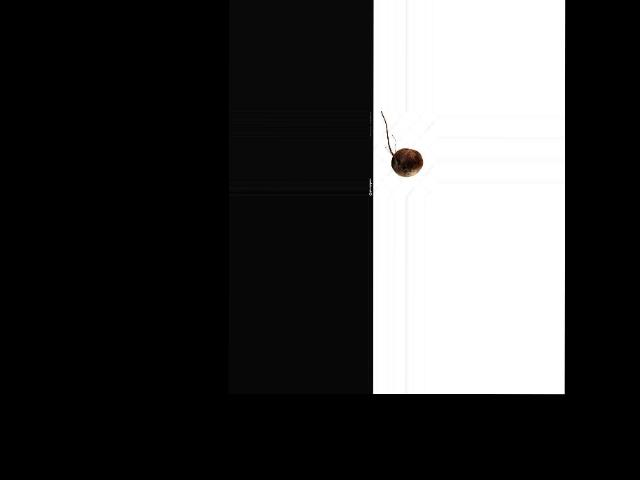beet: (380, 110, 422, 176)
